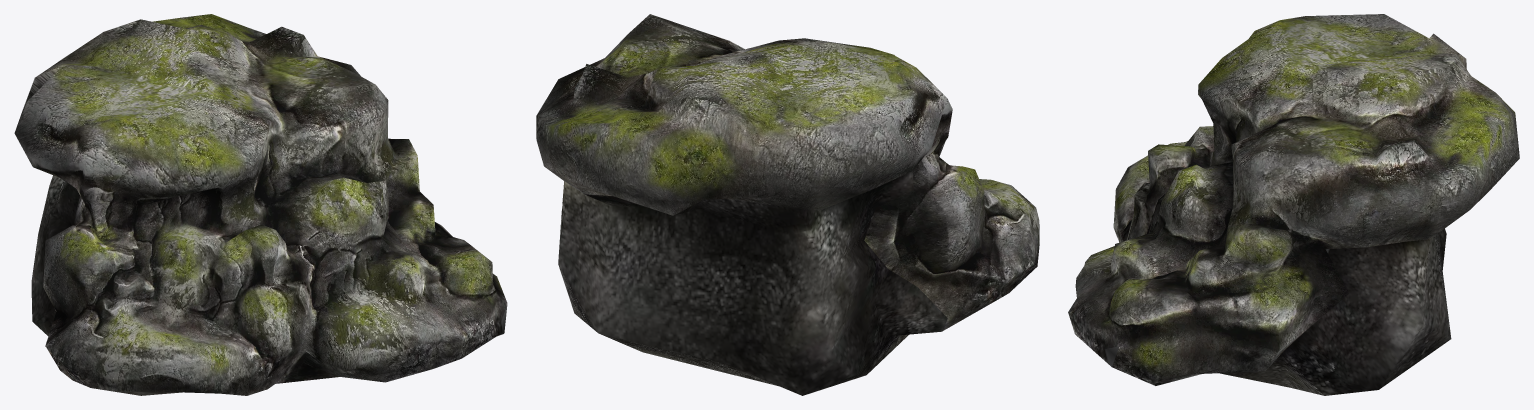
Rendered from Rock - Cliff 4-Db8WKByW.glb.
The picture shows the model from 3 angles, left to right: view 1: azimuth 30°, elevation 25°; view 2: azimuth 150°, elevation 25°; view 3: azimuth 270°, elevation 25°; orthographic projection. The views are drawn at different scales.
Parts seen in each view (by area): view 1: Generic Cliff 4_LOD 0; view 2: Generic Cliff 4_LOD 0; view 3: Generic Cliff 4_LOD 0.
Boxes of the visible parts, x1,y1,x2,y2 form: Generic Cliff 4_LOD 0: (14, 14, 507, 395); Generic Cliff 4_LOD 0: (536, 14, 1039, 395); Generic Cliff 4_LOD 0: (1068, 14, 1519, 395).
Size of what is drawn, in the model's own units: 22.15 by 15.26 by 21.85.
Materials: 1 (1 with a texture image).
